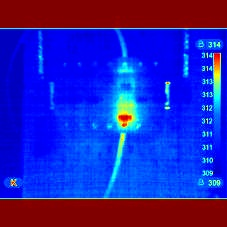High: (106, 101, 144, 131)
